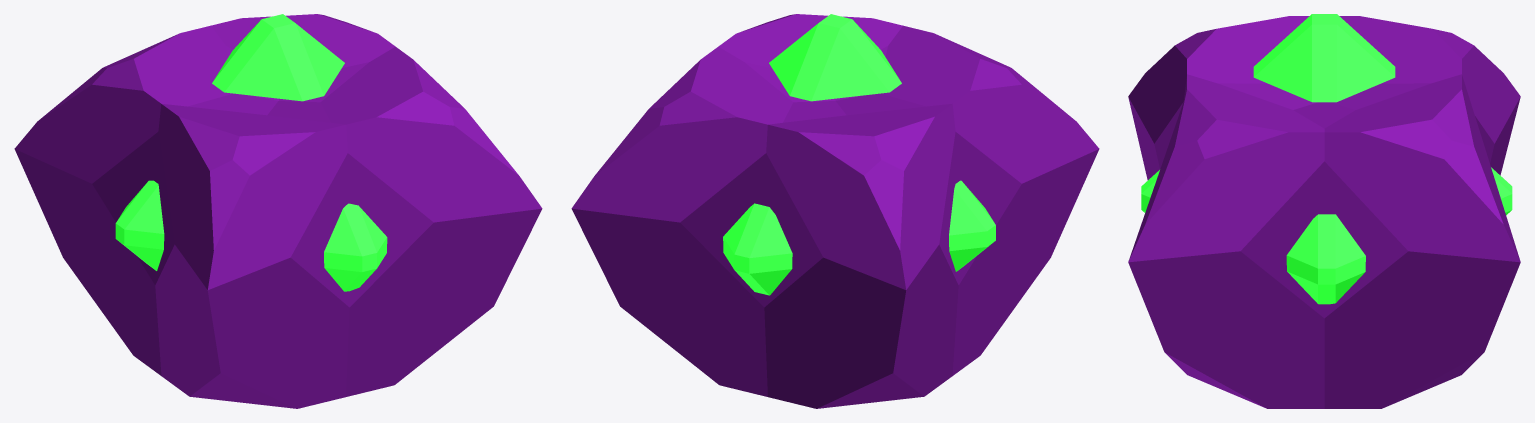
Rendered from фиолетовый сундук.fbx.
The picture shows the model from 3 angles, left to right: view 1: azimuth 30°, elevation 25°; view 2: azimuth 150°, elevation 25°; view 3: azimuth 270°, elevation 25°; orthographic projection.
Visible parts, largest first — view 1: Cube.002; view 2: Cube.002; view 3: Cube.002.
Boxes of the visible parts, x1,y1,x2,y2 form: Cube.002: (14, 14, 542, 408); Cube.002: (571, 14, 1099, 408); Cube.002: (1128, 14, 1520, 408).
Size of the model in its own units: 145 by 135 by 145.
